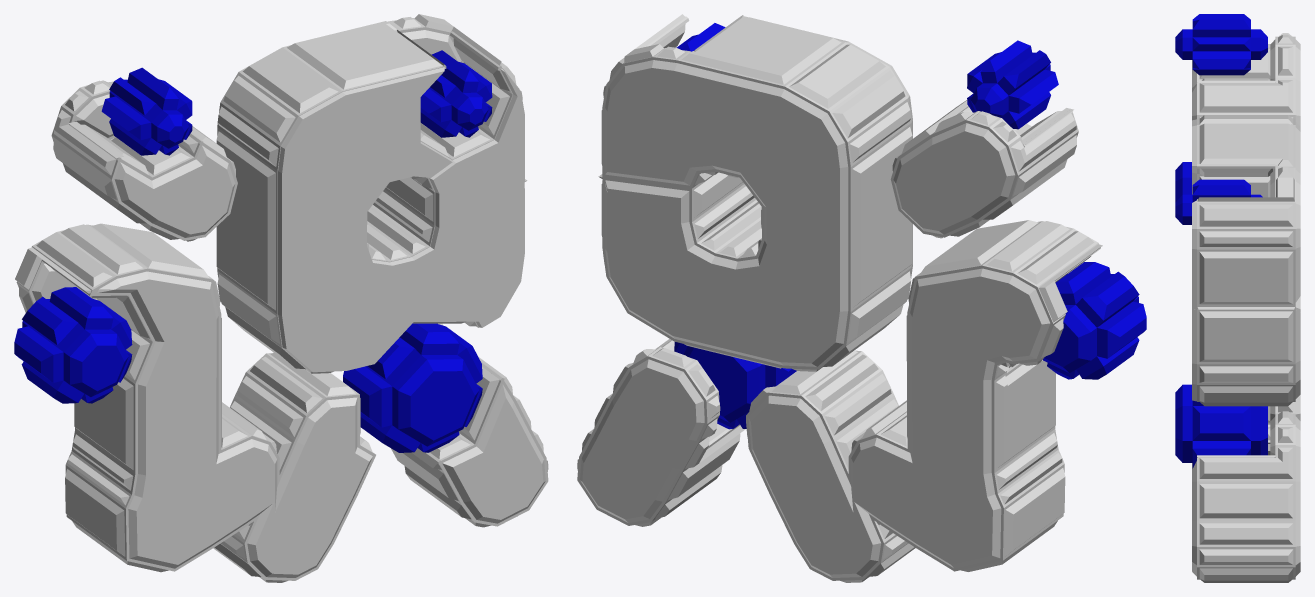
File: Ch_China_识_01.fbx
The picture shows the model from 3 angles, left to right: view 1: azimuth 30°, elevation 25°; view 2: azimuth 150°, elevation 25°; view 3: azimuth 270°, elevation 25°; orthographic projection. The views are drawn at different scales.
Parts seen in each view (by area): view 1: sphere1; view 2: sphere1; view 3: sphere1.
Part boxes in pixels (x1,y1,x2,y2): sphere1: (14,14,548,582); sphere1: (577,14,1146,582); sphere1: (1175,14,1300,582).
Bounding box in the file's own units: 0.9774 × 0.9628 × 0.2541.
